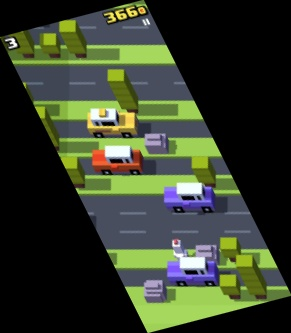car: (166, 255, 220, 288), (86, 108, 138, 141), (91, 145, 144, 175), (164, 183, 217, 213)
duck: (170, 239, 190, 259)
rock: (142, 279, 169, 305), (195, 244, 224, 264), (144, 133, 170, 154)
tree: (234, 254, 268, 300), (106, 68, 139, 113), (56, 19, 89, 60), (32, 107, 62, 151), (56, 156, 85, 188), (6, 27, 34, 57), (191, 157, 217, 186), (39, 32, 61, 60), (219, 236, 240, 264), (219, 275, 242, 300), (15, 83, 35, 106)
